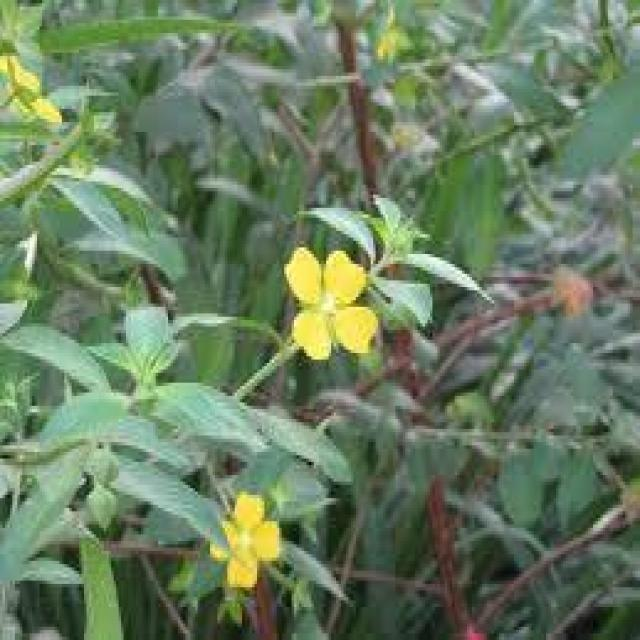organic waste: (278, 238, 394, 366), (214, 480, 280, 589)
